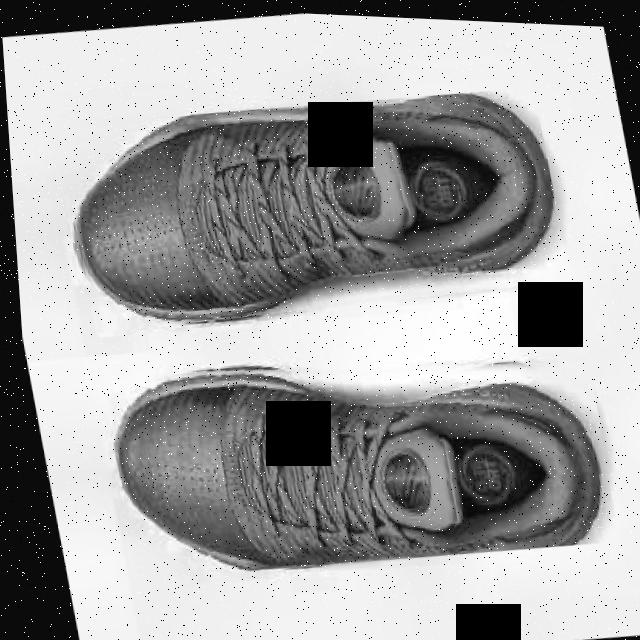shoe: (48, 65, 572, 349), (92, 313, 619, 595)
